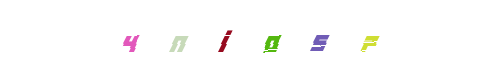0: (209, 0, 289, 80)
4: (173, 0, 253, 80)
7: (322, 0, 402, 80)
I: (196, 0, 276, 80)
N: (184, 0, 264, 80)
S: (232, 0, 312, 80)
